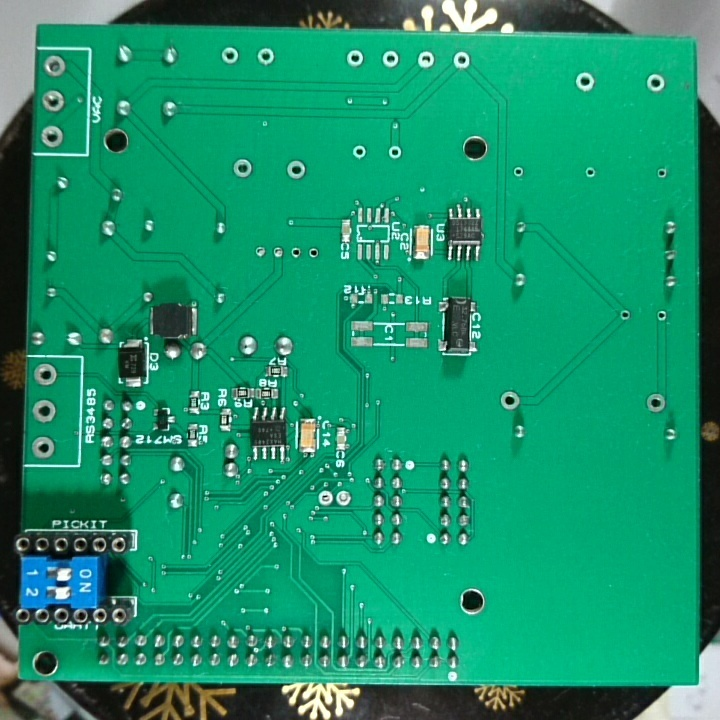F: (39, 52, 68, 83), (31, 397, 59, 425), (39, 86, 66, 115), (39, 121, 66, 149), (31, 360, 58, 388), (643, 388, 668, 418), (30, 434, 57, 460), (283, 157, 309, 183), (229, 155, 255, 181), (572, 69, 596, 96), (643, 69, 667, 95), (498, 387, 522, 412), (343, 46, 366, 72), (379, 47, 402, 73), (255, 45, 279, 69), (414, 47, 437, 72), (219, 43, 240, 69), (451, 48, 473, 72), (348, 142, 369, 165), (385, 141, 405, 163), (335, 488, 354, 510), (303, 243, 322, 264), (654, 164, 674, 183), (316, 488, 334, 508), (252, 242, 268, 264), (582, 162, 598, 183), (288, 241, 304, 262), (617, 305, 635, 323), (654, 306, 670, 326), (271, 243, 286, 263), (511, 161, 526, 180)
